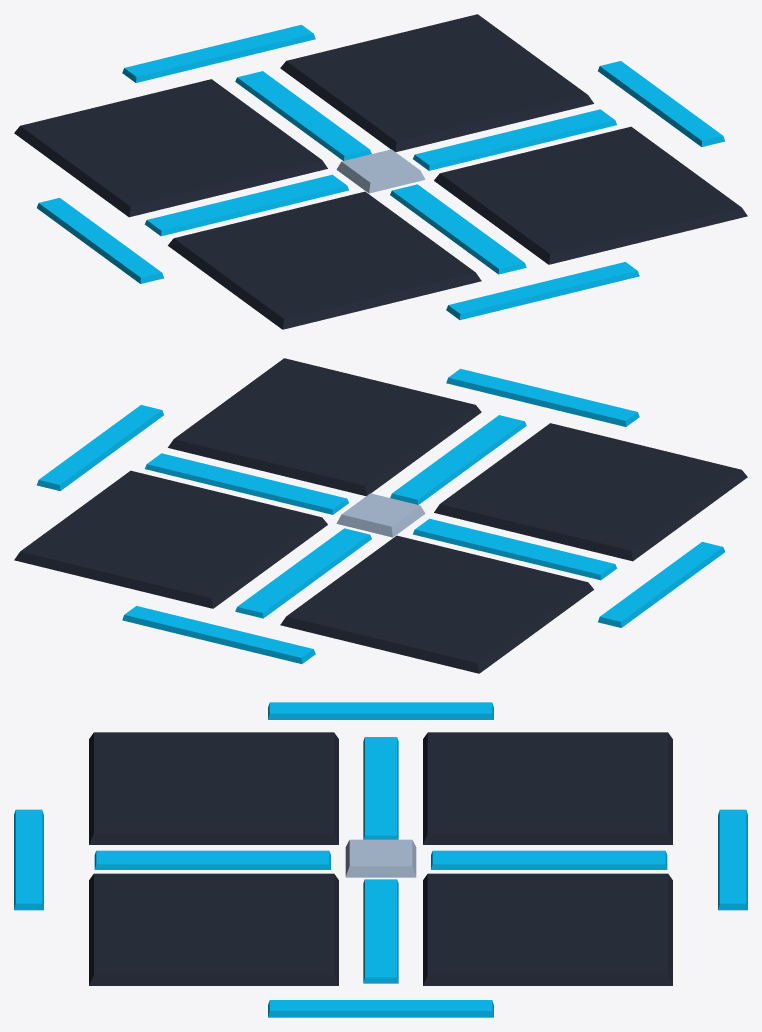
The model's file is SM_ArenaTile_Overlay_01_SafeNormal.obj.
3 renders of one model, top to bottom at view 1: azimuth 30°, elevation 25°; view 2: azimuth 150°, elevation 25°; view 3: azimuth 270°, elevation 25°, orthographic. The views are drawn at different scales.
Visible parts, largest first — view 1: SM_ArenaTile_Overlay_01_SafeNormal__MAT_DarkNeutral, SM_ArenaTile_Overlay_01_SafeNormal__EMI_Cyan, SM_ArenaTile_Overlay_01_SafeNormal__MAT_LightTrim; view 2: SM_ArenaTile_Overlay_01_SafeNormal__MAT_DarkNeutral, SM_ArenaTile_Overlay_01_SafeNormal__EMI_Cyan, SM_ArenaTile_Overlay_01_SafeNormal__MAT_LightTrim; view 3: SM_ArenaTile_Overlay_01_SafeNormal__MAT_DarkNeutral, SM_ArenaTile_Overlay_01_SafeNormal__EMI_Cyan, SM_ArenaTile_Overlay_01_SafeNormal__MAT_LightTrim.
Part boxes in pixels (left/top/right/bottom): SM_ArenaTile_Overlay_01_SafeNormal__MAT_DarkNeutral: left=14, top=14, right=747, bottom=329; SM_ArenaTile_Overlay_01_SafeNormal__EMI_Cyan: left=37, top=24, right=724, bottom=319; SM_ArenaTile_Overlay_01_SafeNormal__MAT_LightTrim: left=336, top=149, right=425, bottom=193; SM_ArenaTile_Overlay_01_SafeNormal__MAT_DarkNeutral: left=14, top=358, right=747, bottom=673; SM_ArenaTile_Overlay_01_SafeNormal__EMI_Cyan: left=37, top=368, right=724, bottom=663; SM_ArenaTile_Overlay_01_SafeNormal__MAT_LightTrim: left=336, top=493, right=425, bottom=537; SM_ArenaTile_Overlay_01_SafeNormal__MAT_DarkNeutral: left=89, top=732, right=672, bottom=985; SM_ArenaTile_Overlay_01_SafeNormal__EMI_Cyan: left=14, top=702, right=747, bottom=1017; SM_ArenaTile_Overlay_01_SafeNormal__MAT_LightTrim: left=345, top=839, right=416, bottom=877.
Size of the model in its own units: 9.1 by 0.13 by 9.1.
Materials: 3 (3 with a texture image).
